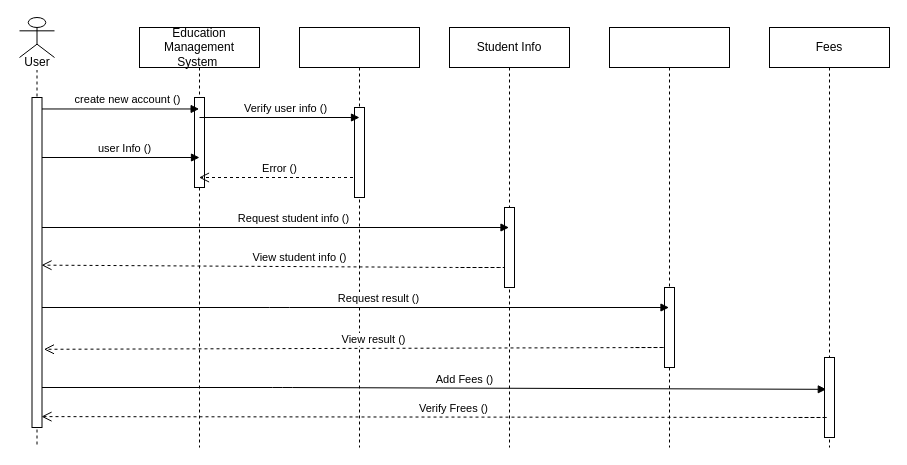
This 907x465 diagram has some shape labels left out. The box of each missing label's shape, as (x1, y1, x2, y2) in pixels:
Data Server: (298, 26, 420, 448)
Results: (608, 26, 730, 448)
